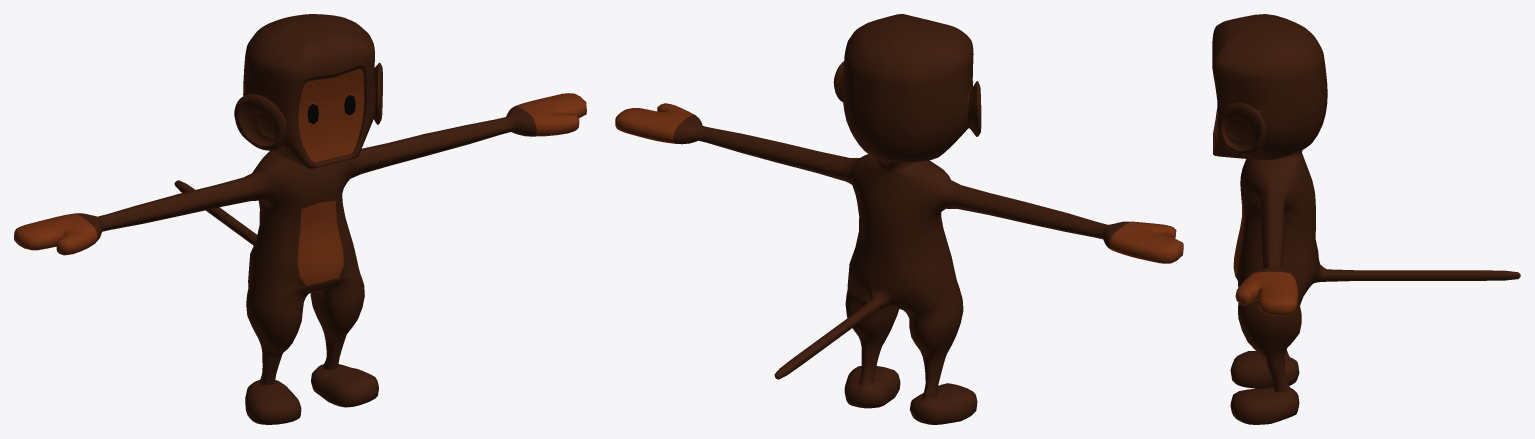
Rendered from Mon_K.fbx.
3 views of the same model, side by side, from view 1: azimuth 30°, elevation 25°; view 2: azimuth 150°, elevation 25°; view 3: azimuth 270°, elevation 25° (orthographic). The views are drawn at different scales.
Parts seen in each view (by area): view 1: Box006; view 2: Box006; view 3: Box006.
Part boxes in pixels (box(x1,y1,x2,y2)): Box006: box(14, 14, 586, 424); Box006: box(615, 14, 1183, 424); Box006: box(1212, 14, 1520, 424).
Size of the model in its own units: 879 by 565 by 427.
